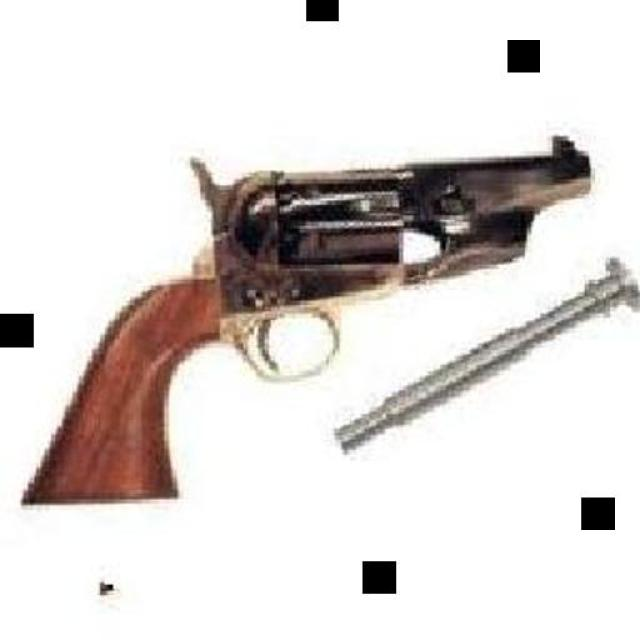gun: (15, 130, 591, 504)
